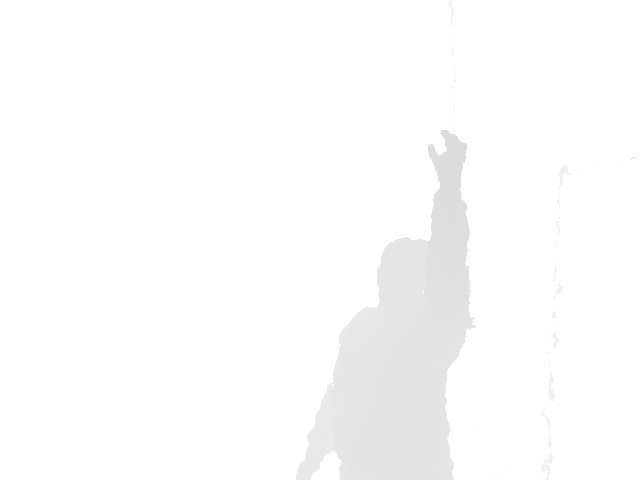hand: (427, 128, 468, 187)
head: (375, 237, 435, 305)
person: (294, 128, 478, 480)
